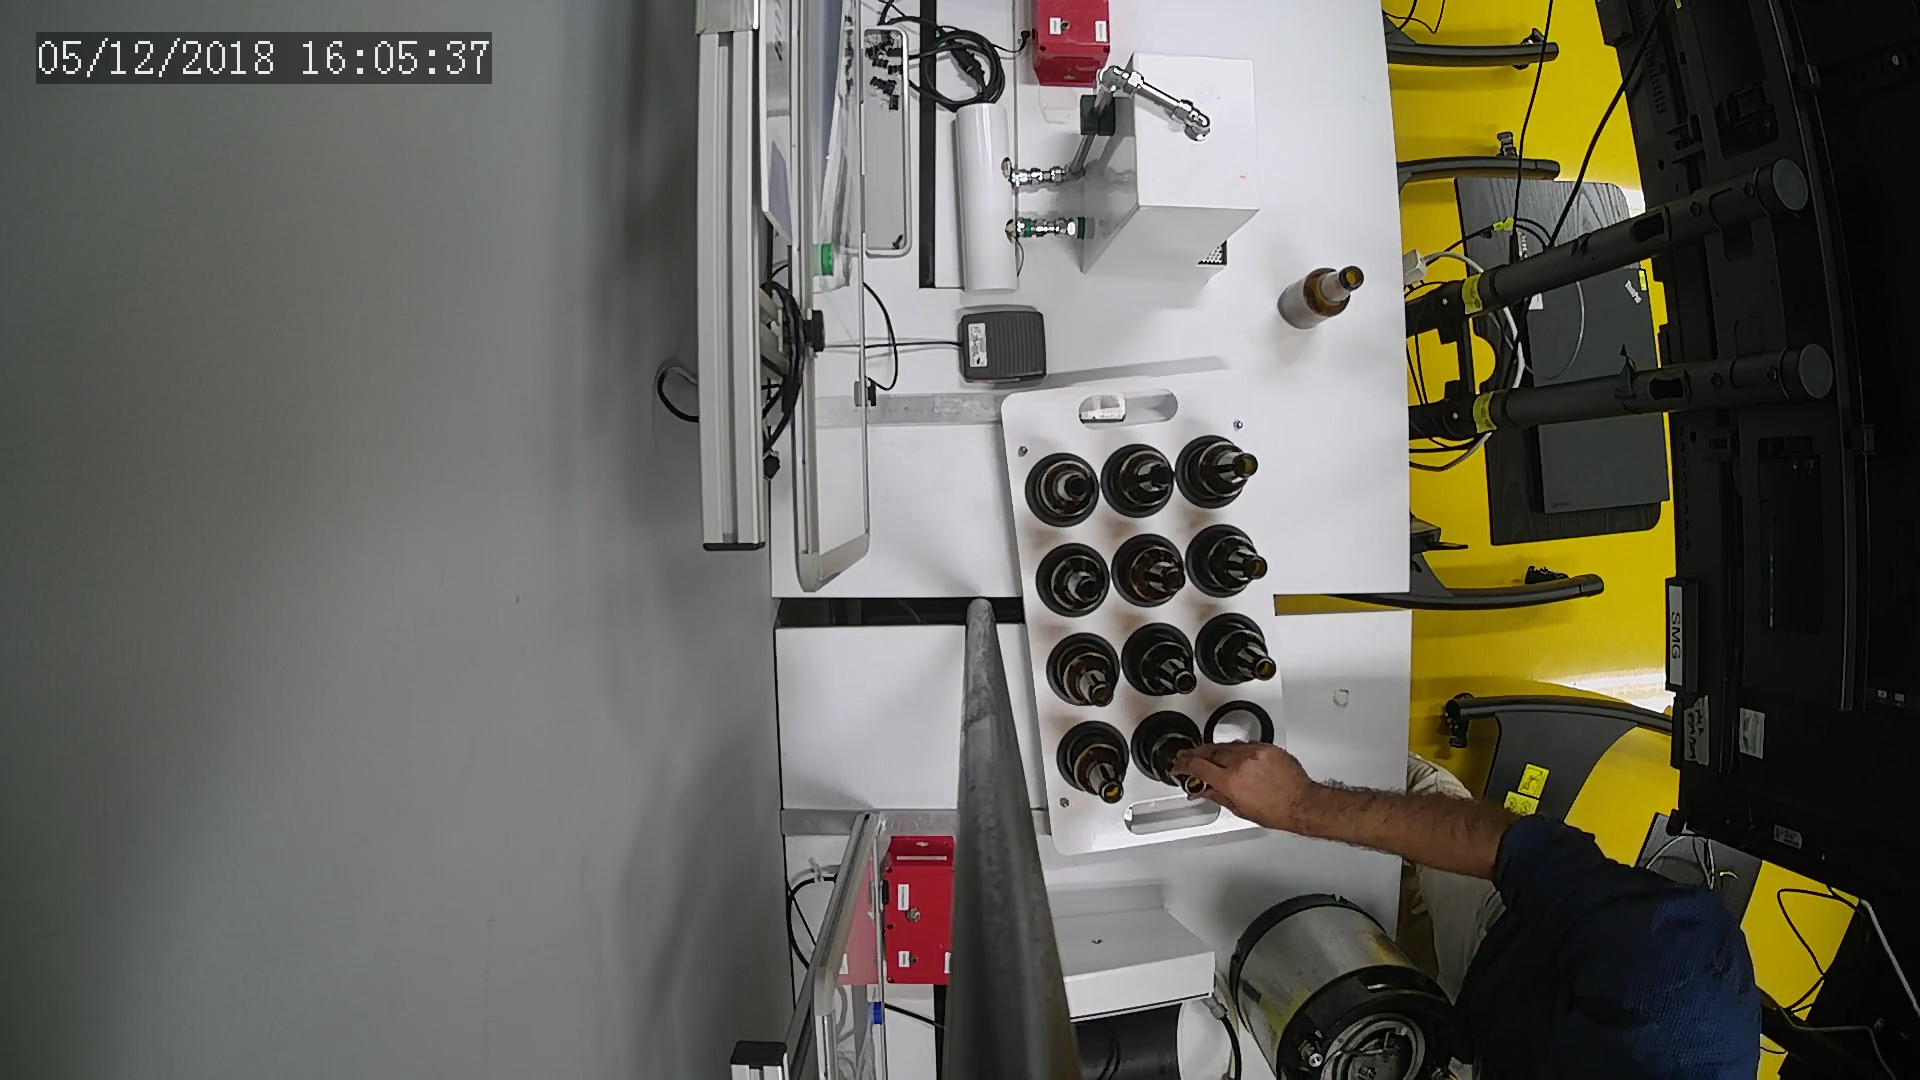filled_bottle: (1039, 628, 1129, 713), (1193, 616, 1287, 698), (1047, 723, 1131, 811), (1174, 429, 1262, 513), (1122, 620, 1204, 709), (1015, 447, 1102, 530), (1179, 520, 1270, 599), (1102, 440, 1187, 524), (1110, 526, 1189, 613), (1033, 538, 1116, 620), (1126, 713, 1204, 795)
trolley: (996, 361, 1298, 857)
unfilled_bottle: (1274, 258, 1371, 343)
